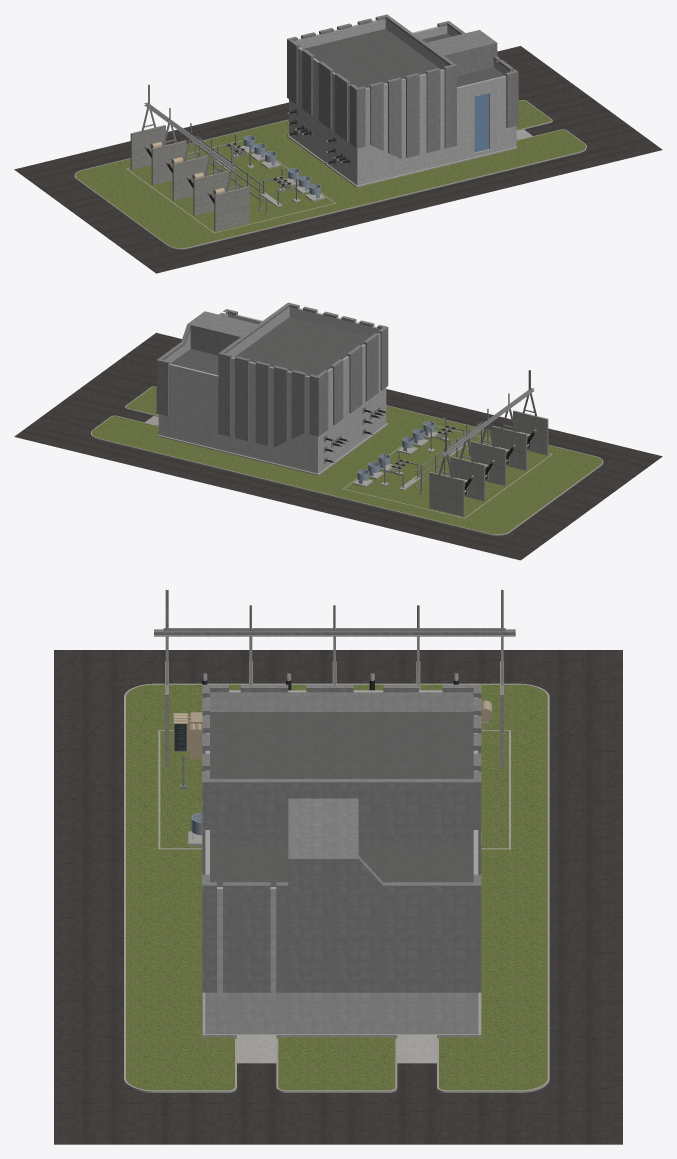
The model's file is STATCOM_BD.gltf.
3 views of the same model, one above another, from view 1: azimuth 30°, elevation 25°; view 2: azimuth 150°, elevation 25°; view 3: azimuth 270°, elevation 25° (orthographic). The views are drawn at different scales.
Parts seen in each view (by area): view 1: STATCOM_BD, metal01, metal02, Box045, Box170, metal03, metal04, win01, Box716, metal05; view 2: STATCOM_BD, metal02, metal01, Box045, Box170, metal03, metal04, Box716, metal05; view 3: STATCOM_BD, metal01, metal02, Box170, metal03, Box716, metal02-1, Box045.
Boxes of the visible parts, x1,y1,x2,y2 form: STATCOM_BD: (14,28,662,273); metal01: (287,14,518,158); metal02: (289,19,516,185); Box045: (130,125,249,230); Box170: (74,100,586,249); metal03: (141,84,299,214); metal04: (243,135,321,198); win01: (474,93,488,151); Box716: (287,129,532,187); metal05: (287,108,350,164); STATCOM_BD: (14,317,662,560); metal02: (158,307,386,473); metal01: (156,302,388,446); Box045: (429,410,548,516); Box170: (91,386,603,535); metal03: (382,370,536,493); metal04: (357,421,434,484); Box716: (145,416,388,475); metal05: (324,406,387,463); STATCOM_BD: (54,650,622,1144); metal01: (202,684,481,992); metal02: (205,690,478,1034); Box170: (124,683,549,1092); metal03: (154,589,515,788); Box716: (202,992,481,1063); metal02-1: (173,673,207,759); Box045: (165,661,503,766).
Size of the model in its own units: 118 by 21.98 by 57.46.
Materials: 17 (16 with a texture image).
